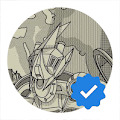fraud: (70, 72, 106, 109)
